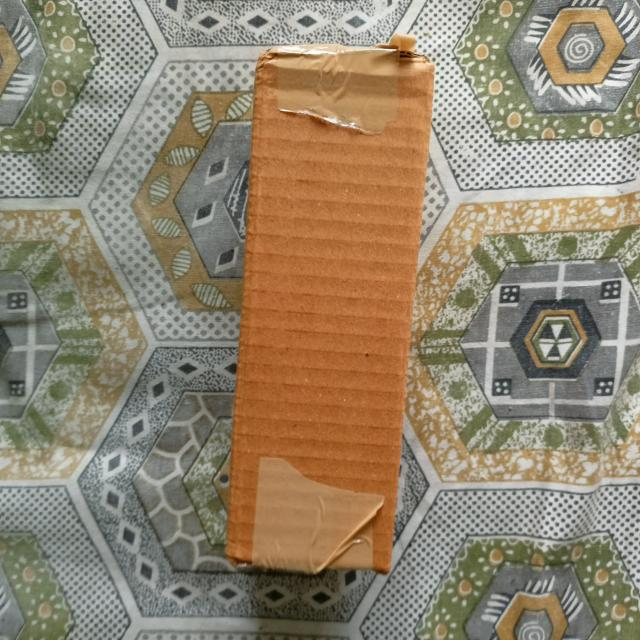box: (225, 38, 436, 578)
